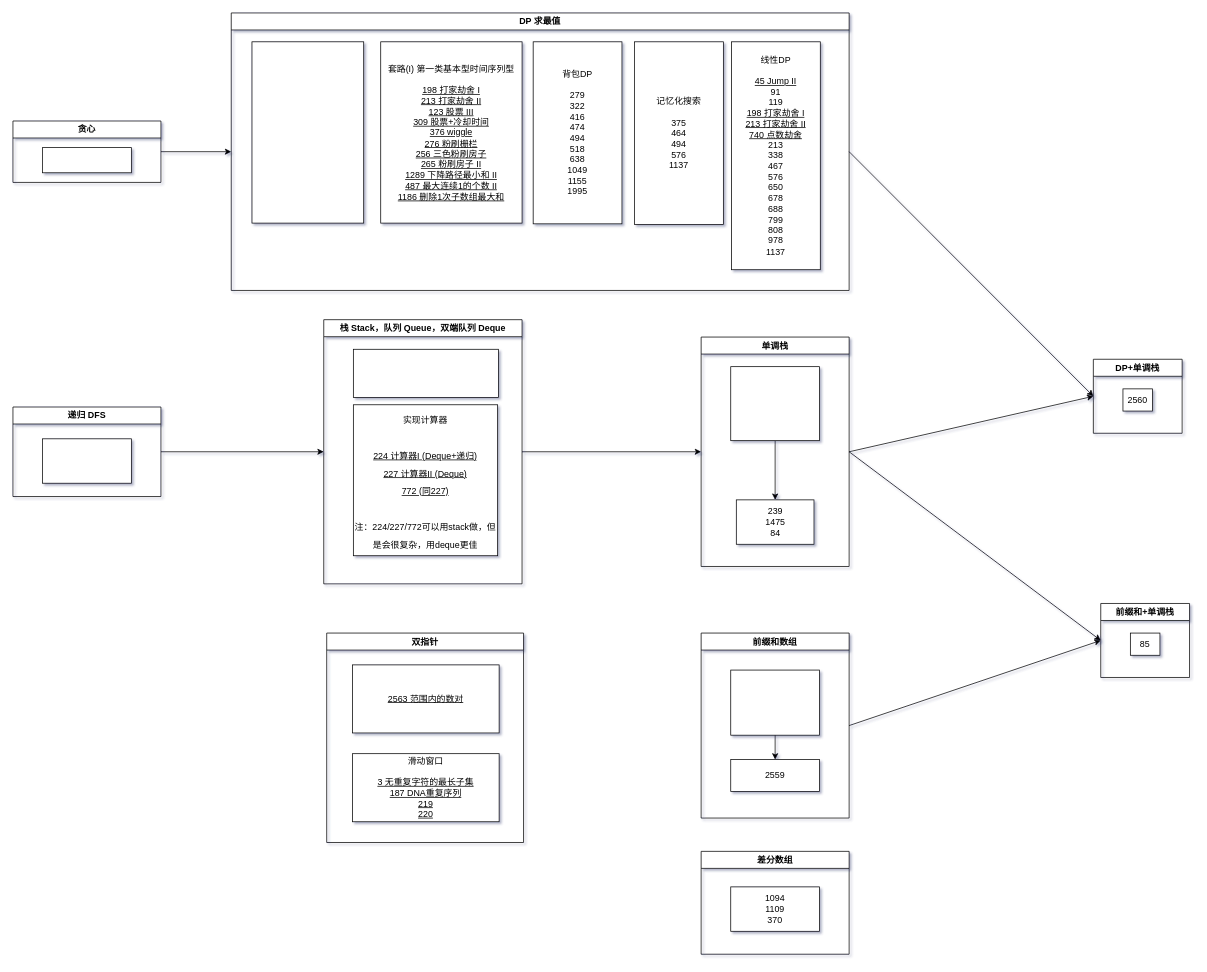
This 1207x972 diagram has some shape labels left out. Here are the shapes that lost their labels. From the top down, the centre of each, then its label:
At pixel 307 132: "基本思想 509 Fib 1137 Tribonacci 70 爬梯子 746 爬梯子 II 53 最大子数组和".
At pixel 86 160: "55 Jump I".
At pixel 425 373: "基础必会 20 括号对 (Stack)".
At pixel 775 403: "基础必会 496 503 739".
At pixel 86 460: "基础必会 17 (电话号码)".
At pixel 775 702: "基础必会 303 304".
